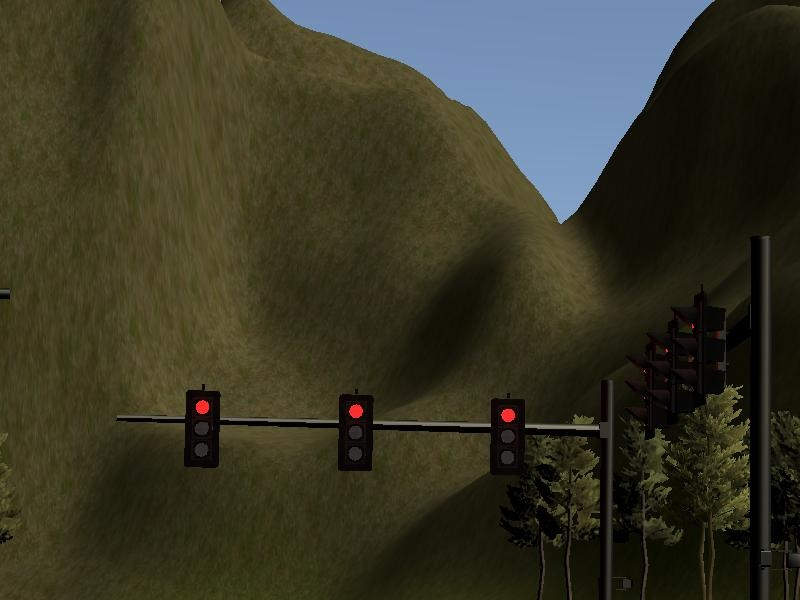RED: (182, 390, 219, 467), (335, 394, 372, 471), (490, 398, 527, 475)
